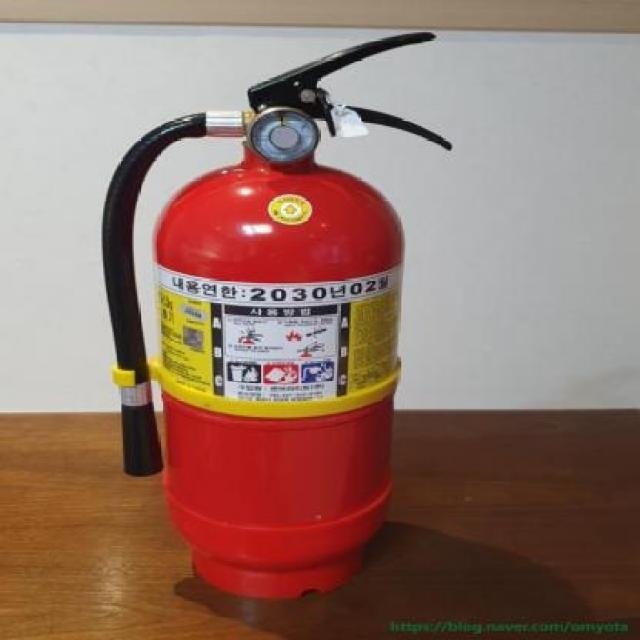fire extinguisher: (102, 33, 453, 599)
